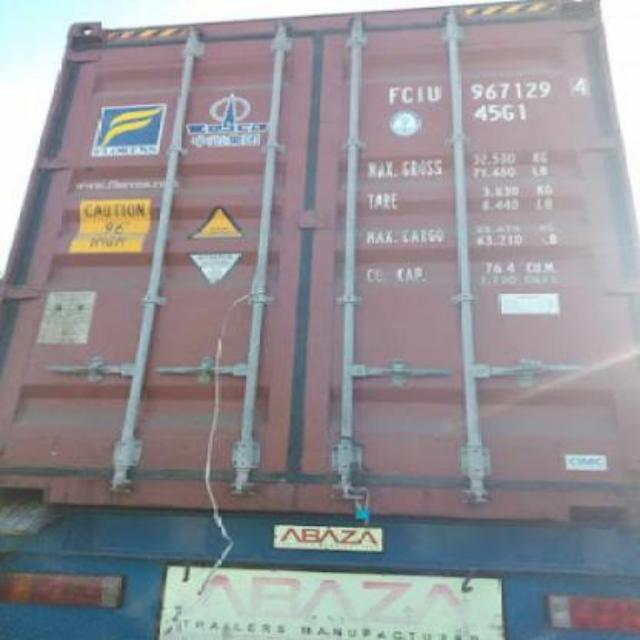1: (514, 79, 526, 99)
2: (524, 80, 540, 102)
4: (570, 76, 588, 96)
6: (480, 80, 498, 102)
7: (498, 83, 512, 101)
9: (471, 83, 484, 101), (540, 81, 552, 99)
C: (400, 85, 416, 105)
F: (386, 87, 402, 105)
I: (414, 84, 424, 106)
U: (424, 83, 442, 107)
